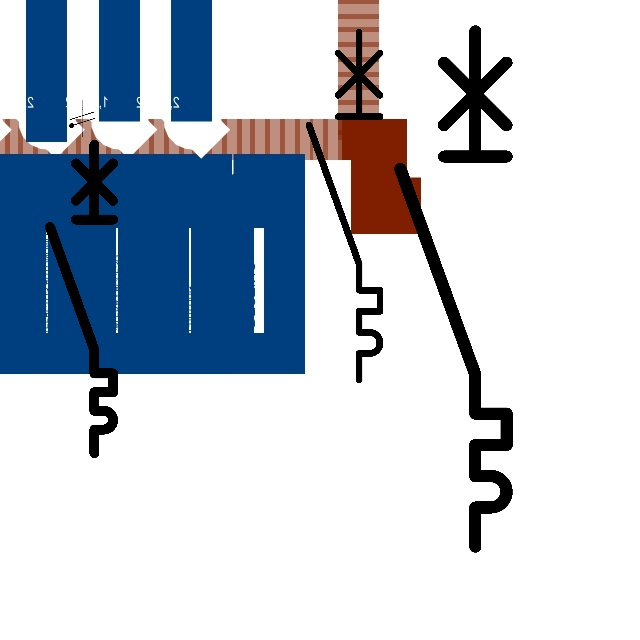interruptor_termomagnetico: (387, 18, 520, 560), (300, 23, 389, 389), (42, 136, 121, 460)
